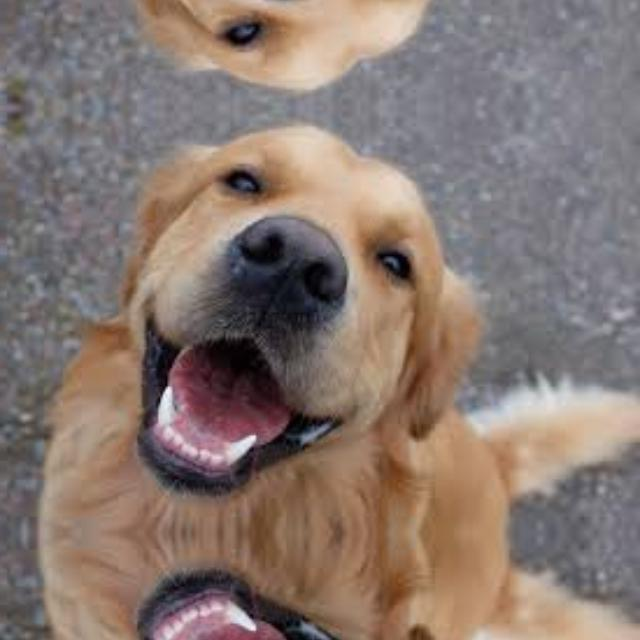dog: (0, 109, 546, 534), (0, 532, 546, 640), (0, 0, 546, 105)
